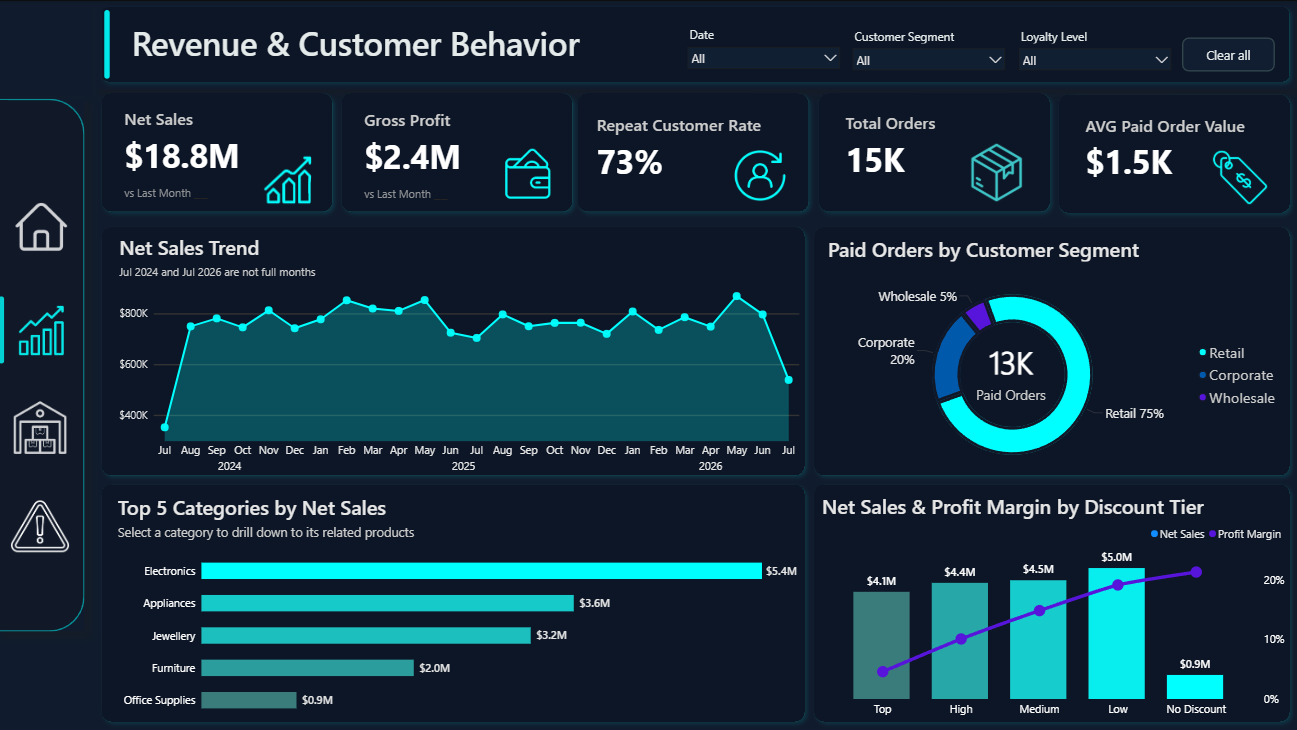

The dashboard page shown, as its layout file describes it:
{"tool":"powerbi","page":{"name":"Revenue & Customer Behavior","canvas":[1920,1080],"ordinal":1},"visuals":[{"type":"shape","box":[143.6,0,1770.6,130.7],"z":0},{"type":"shape","box":[0,145.6,129,785.1],"z":1000},{"type":"shape","title":"Total Sales","box":[143.6,127,360.7,195.1],"z":2000},{"type":"shape","box":[496.9,127,360.7,195.1],"z":3000},{"type":"shape","box":[844.8,127,360.7,195.1],"z":4000},{"type":"shape","box":[1200,127,360.7,195.1],"z":5000},{"type":"shape","box":[1553.4,128.8,360.7,195.1],"z":6000},{"type":"cardVisual","fields":{"Data":["_Measures.Total Sales"]},"box":[158.3,149.1,274.2,208],"z":7000},{"type":"cardVisual","fields":{"Data":["_Measures.Gross Profit"]},"box":[537.9,356.7,319.4,164.4],"z":8000},{"type":"cardVisual","fields":{"Data":["_Measures.Total Orders"]},"box":[1220.3,132.5,246.6,165.6],"z":9000},{"type":"cardVisual","fields":{"Data":["_Measures.AVG Order Value"]},"box":[1573.9,141.9,307.8,154.8],"z":10000},{"type":"shape","box":[143.6,324.1,1056.9,386.7],"z":11000},{"type":"lineChart","title":"Net Sales Trend","fields":{"Y":["_Measures.Total Sales"],"Category":["dim_date.Year","dim_date.Month_Name"]},"box":[175.6,343.7,1006.9,366.1],"z":12000},{"type":"shape","box":[143.5,703.1,1056.9,370.1],"z":13000},{"type":"clusteredBarChart","title":"Top 5 Categories by Net Sales","fields":{"Category":["dim_products.category_name","dim_products.product_name"],"Y":["_Measures.Total Sales"]},"box":[174.8,727.1,1003.5,336.9],"z":14000},{"type":"textbox","box":[193.3,25.8,813.5,99.4],"z":15000},{"type":"shape","box":[1193.1,324.1,721.8,386.7],"z":16000},{"type":"donutChart","title":"Paid Orders by Customer Segment","fields":{"Category":["dim_customers.customer_segment"],"Y":["_Measures.Total Orders"]},"box":[1219.9,345.6,678.1,366.1],"z":17000},{"type":"shape","box":[1193,703.1,721.8,370.1],"z":18000},{"type":"lineClusteredColumnComboChart","title":"Net Sales & Profit Margin by Discount Tier","fields":{"Category":["fact_order_items.discount_segment"],"Y":["_Measures.Total Sales"],"Y2":["_Measures.Profit Margin %"]},"box":[1216.3,725.9,681.9,335.4],"z":19000},{"type":"slicer","title":"Gender","fields":{"Values":["dim_customers.loyalty_level"]},"box":[1495.5,36.6,244.8,69.9],"z":20000},{"type":"slicer","fields":{"Values":["dim_customers.customer_segment"]},"box":[1250.7,36.6,244.8,69.9],"z":21000},{"type":"slicer","title":"Date","fields":{"Values":["dim_date.Year","dim_date.Month_Name"]},"box":[1006.9,35,244.8,69.9],"z":22000},{"type":"image","box":[359.4,219.3,138.2,92.1],"z":23000},{"type":"image","box":[728.8,219,104.9,73.6],"z":24000},{"type":"image","box":[1072.6,221.4,105,75.6],"z":25000},{"type":"image","box":[1778.5,211.9,105,99.5],"z":26000},{"type":"cardVisual","fields":{"Data":["_Measures.Gross Profit"]},"box":[511.7,150.9,270.6,206.1],"z":27000},{"type":"cardVisual","fields":{"Data":["_Measures.Repeat Purchase Rate %"]},"box":[854.7,113.8,307.9,207.2],"z":28000},{"type":"actionButton","box":[1745.7,55.9,136.8,50.1],"z":29000},{"type":"cardVisual","fields":{"Data":["_Measures.Paid Orders"]},"box":[1387,475,214,145.7],"z":30000},{"type":"image","box":[12.9,449.7,105,75.6],"z":31000},{"type":"image","box":[11.1,591.6,105,77.4],"z":32000},{"type":"image","box":[16.8,732.3,93.4,85],"z":33000},{"type":"image","box":[12.9,296.7,105,75.6],"z":34000},{"type":"image","box":[1419.1,212.2,105,84.8],"z":35000},{"type":"shape","box":[0,147.4,16.6,780],"z":36000},{"type":"shape","box":[0,436.2,12.9,99.4],"z":37000},{"type":"shape","box":[138,14.7,47.9,101.2],"z":38000}]}

Visuals, with their boxes in screenshot pixels (x1, y1, x2, y2), scaled from the page's 1920x1080 canvas onto the 1297x730 screenshot:
shape: [97,0,1293,88]
shape: [0,98,87,629]
"Total Sales" shape: [97,86,341,218]
shape: [336,86,579,218]
shape: [571,86,814,218]
shape: [811,86,1054,218]
shape: [1049,87,1293,219]
cardVisual - _Measures.Total Sales: [107,101,292,241]
cardVisual - _Measures.Gross Profit: [363,241,579,352]
cardVisual - _Measures.Total Orders: [824,90,991,201]
cardVisual - _Measures.AVG Order Value: [1063,96,1271,201]
shape: [97,219,811,480]
"Net Sales Trend" lineChart: [119,232,799,480]
shape: [97,475,811,725]
"Top 5 Categories by Net Sales" clusteredBarChart: [118,491,796,719]
textbox: [131,17,680,85]
shape: [806,219,1294,480]
"Paid Orders by Customer Segment" donutChart: [824,234,1282,481]
shape: [806,475,1293,725]
"Net Sales & Profit Margin by Discount Tier" lineClusteredColumnComboChart: [822,491,1282,717]
"Gender" slicer: [1010,25,1176,72]
slicer - dim_customers.customer_segment: [845,25,1010,72]
"Date" slicer: [680,24,846,71]
image: [243,148,336,210]
image: [492,148,563,198]
image: [725,150,795,201]
image: [1201,143,1272,210]
cardVisual - _Measures.Gross Profit: [346,102,528,241]
cardVisual - _Measures.Repeat Purchase Rate %: [577,77,785,217]
actionButton: [1179,38,1272,72]
cardVisual - _Measures.Paid Orders: [937,321,1082,420]
image: [9,304,80,355]
image: [7,400,78,452]
image: [11,495,74,552]
image: [9,201,80,252]
image: [959,143,1030,201]
shape: [0,100,11,627]
shape: [0,295,9,362]
shape: [93,10,126,78]
